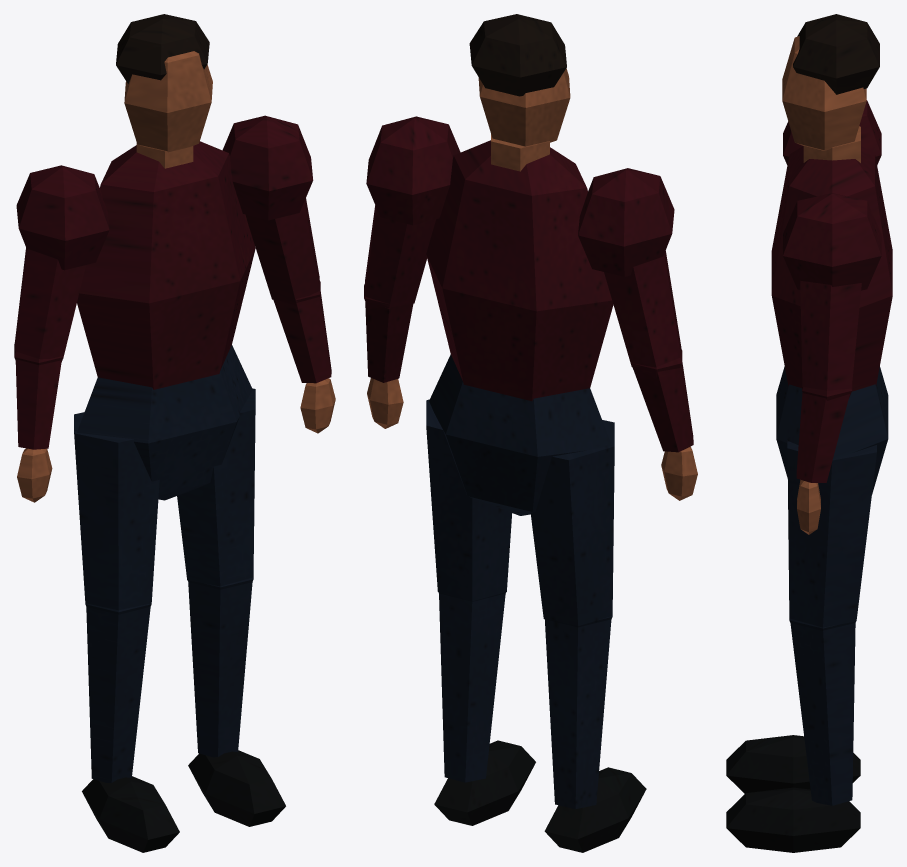
The model's file is PROP-4EF066700816_lod2.glb.
3 views of the same model, side by side, from view 1: azimuth 30°, elevation 25°; view 2: azimuth 150°, elevation 25°; view 3: azimuth 270°, elevation 25° (orthographic). The views are drawn at different scales.
Visible parts, largest first — view 1: torso.012, thigh.011, calf.011, shoulder.012, pelvis.011, upper_arm.012, shoe.011, forearm.012, head.011, hair_cap.011, hand.011, neck.011; view 2: torso.012, thigh.011, calf.011, shoulder.012, pelvis.011, upper_arm.012, shoe.011, hair_cap.011, forearm.012, head.011, hand.011, neck.011 (+1 smaller); view 3: thigh.011, torso.012, shoe.011, calf.011, shoulder.012, upper_arm.012, hair_cap.011, head.011, pelvis.011, forearm.012, hand.011, neck.011 (+1 smaller).
Part boxes in pixels (x1,y1,x2,y2): torso.012: (77,141,255,389); thigh.011: (74,388,255,610); calf.011: (86,582,252,782); shoulder.012: (16,115,313,270); pelvis.011: (77,345,252,500); upper_arm.012: (14,198,319,359); shoe.011: (82,750,285,852); forearm.012: (15,292,331,449); head.011: (124,51,212,152); hair_cap.011: (116,14,209,83); hand.011: (17,378,335,502); neck.011: (136,143,193,168); torso.012: (426,140,613,401); thigh.011: (426,399,614,626); calf.011: (439,593,611,809); shoulder.012: (366,116,674,276); pelvis.011: (429,354,611,515); upper_arm.012: (364,205,681,367); shoe.011: (434,740,646,852); hair_cap.011: (469,14,566,96); forearm.012: (365,302,693,452); head.011: (478,68,570,146); hand.011: (367,378,697,500); neck.011: (491,134,549,171); thigh.011: (787,440,876,627); torso.012: (771,146,892,391); shoe.011: (726,735,860,852); calf.011: (790,623,855,805); shoulder.012: (783,100,881,290); upper_arm.012: (800,280,861,390); hair_cap.011: (793,14,879,94); head.011: (782,36,866,150); pelvis.011: (776,366,888,494); forearm.012: (796,392,849,482); hand.011: (797,479,820,534); neck.011: (803,126,860,162).
Bounding box in the file's own units: 0.72 × 1.71 × 0.3218.
5 materials, 5 textured.
